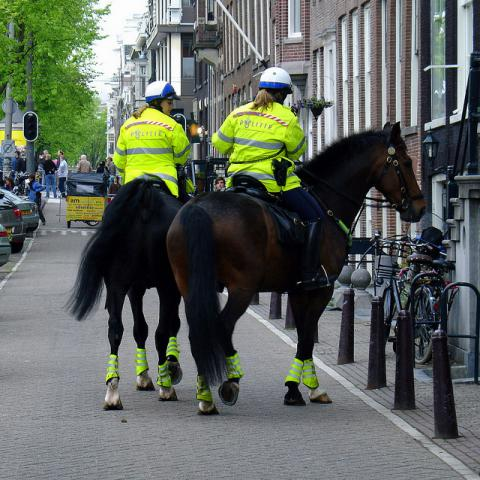car: (0, 188, 41, 232), (1, 192, 27, 254), (0, 224, 13, 266)
